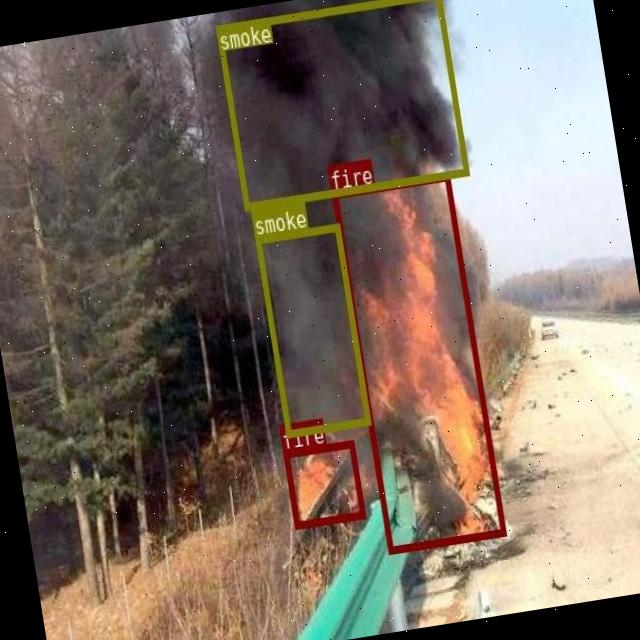fire: (330, 171, 506, 552), (282, 440, 364, 528)
smoke: (215, 0, 468, 208), (254, 223, 370, 438)
